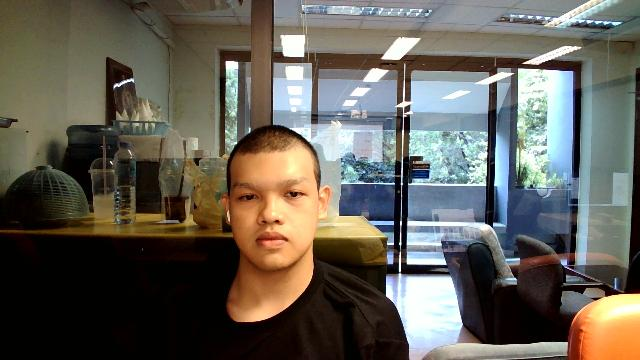fokus: (219, 125, 332, 272)
